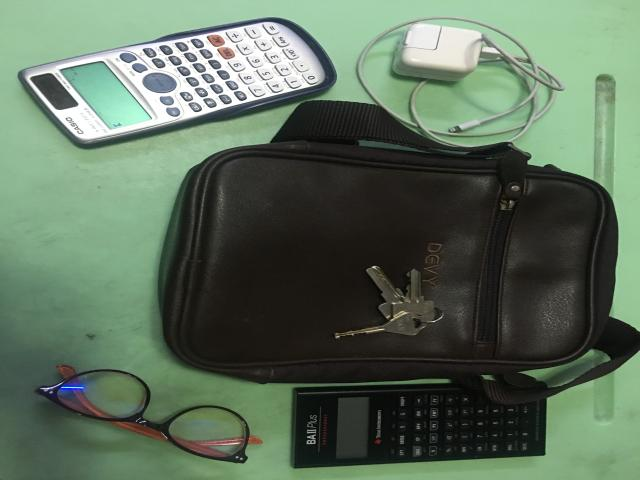Glasses: (35, 369, 253, 463)
Keys: (335, 266, 440, 338)
wire: (357, 16, 563, 146), (293, 381, 547, 468)
